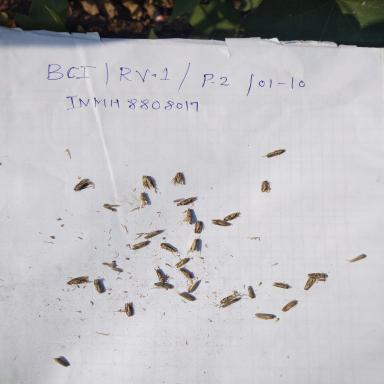pbw: (73, 178, 94, 193), (170, 171, 186, 190), (178, 207, 194, 226), (220, 290, 241, 304), (217, 298, 240, 310), (51, 355, 72, 368), (159, 242, 178, 256), (188, 235, 201, 255), (260, 148, 286, 158), (90, 279, 106, 295), (281, 298, 298, 313), (153, 266, 167, 284), (306, 270, 328, 281), (175, 290, 195, 302), (178, 196, 198, 208), (149, 281, 173, 291), (301, 276, 318, 290), (221, 211, 242, 222), (131, 239, 150, 251), (185, 278, 199, 294), (142, 174, 156, 190), (142, 229, 164, 239), (344, 254, 366, 264), (272, 279, 290, 291), (193, 219, 207, 234), (210, 218, 230, 228), (251, 312, 276, 320), (258, 180, 272, 194), (124, 302, 137, 317), (176, 267, 192, 279), (139, 191, 150, 207), (173, 258, 190, 268), (245, 285, 255, 300)
